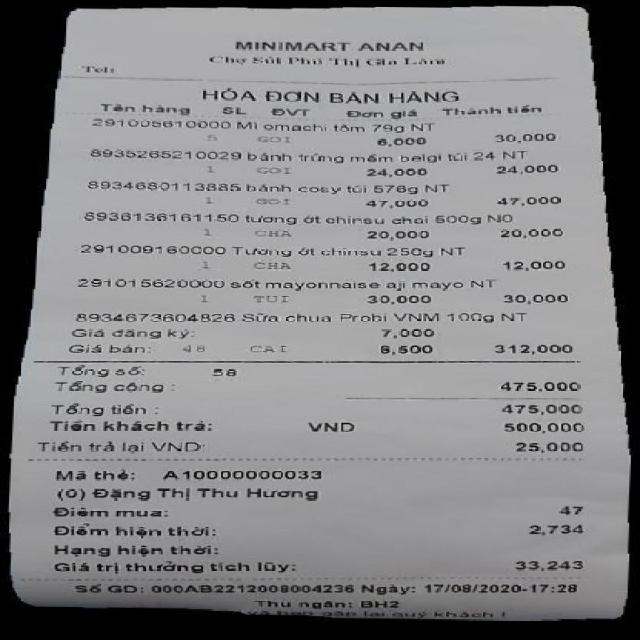Date: (422, 580, 522, 596)
Store_Name: (230, 38, 430, 52)
amount_number: (497, 402, 588, 415)
label_total: (50, 402, 152, 416)
